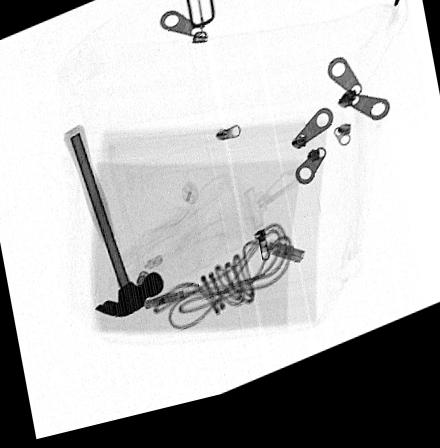Hammer: (61, 127, 164, 324)
